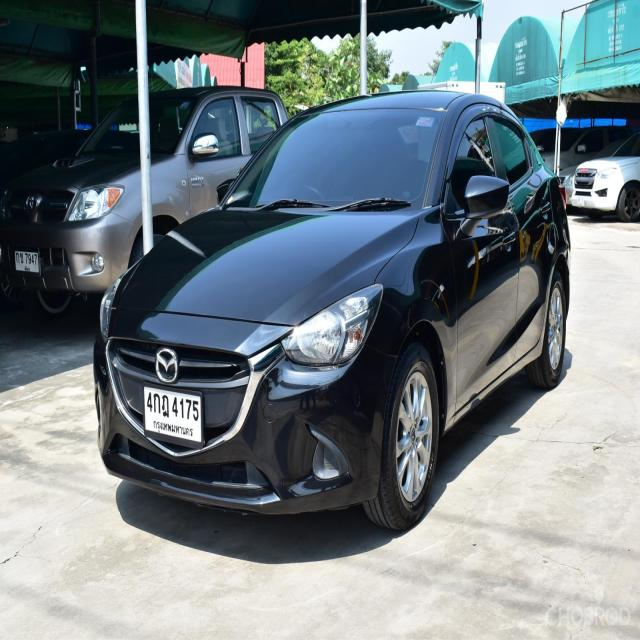license_plate: (140, 379, 205, 447)
